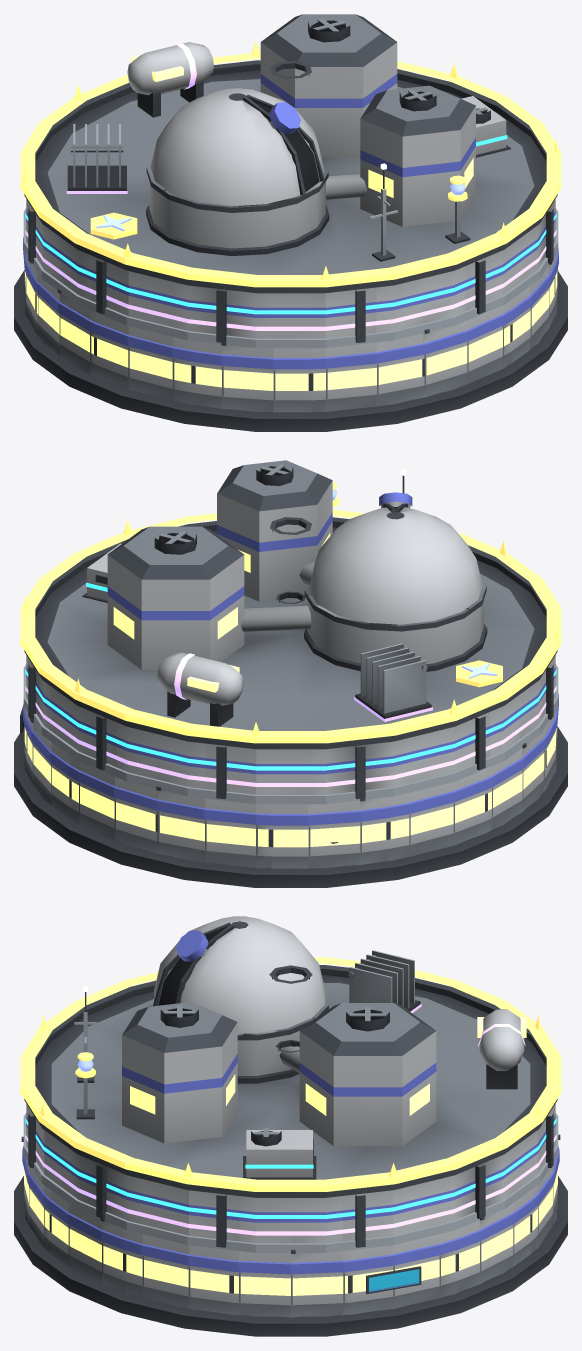
Rendered from research_lab.glb.
3 views of the same model, one above another, from view 1: azimuth 30°, elevation 25°; view 2: azimuth 150°, elevation 25°; view 3: azimuth 270°, elevation 25° (orthographic).
Visible parts, largest first — view 1: Roof, Base, L4, Wall_21, Wall_20, Wall_22, Wall_19, Wall_23, Wall_18, Wall_24, Wall_17, Wall_25 (+41 smaller); view 2: Roof, Base, L4, Wall_10, Wall_11, Wall_09, Wall_12, Wall_08, Wall_13, Wall_07, Wall_14, Wall_06 (+38 smaller); view 3: Roof, Base, L4, L3, Wall_00, Wall_31, Wall_30, Wall_29, Wall_01, Wall_28, Wall_03, Wall_02 (+38 smaller).
Boxes of the visible parts, box(x1,y1,x2,y2) form: Roof: box(24, 14, 557, 293); Base: box(14, 270, 567, 431); L4: box(66, 42, 213, 193); Wall_21: box(273, 348, 325, 412); Wall_20: box(221, 342, 273, 412); Wall_22: box(325, 342, 377, 411); Wall_19: box(172, 337, 221, 408); Wall_23: box(376, 333, 425, 406); Wall_18: box(127, 326, 172, 400); Wall_24: box(424, 321, 467, 397); Wall_17: box(89, 310, 128, 389); Wall_25: box(467, 305, 503, 384); Roof: box(24, 460, 557, 749); Base: box(14, 726, 567, 887); L4: box(157, 643, 432, 726); Wall_10: box(256, 804, 308, 868); Wall_11: box(308, 800, 360, 868); Wall_09: box(204, 798, 256, 867); Wall_12: box(360, 793, 409, 864); Wall_08: box(156, 786, 205, 862); Wall_13: box(409, 782, 454, 856); Wall_07: box(114, 777, 157, 853); Wall_14: box(453, 766, 492, 845); Wall_06: box(78, 762, 114, 840); Roof: box(24, 916, 557, 1197); Base: box(14, 1176, 567, 1336); L4: box(348, 950, 526, 1089); L3: box(243, 1040, 316, 1179); Wall_00: box(291, 1249, 343, 1317); Wall_31: box(238, 1251, 290, 1317); Wall_30: box(188, 1245, 238, 1315); Wall_29: box(141, 1234, 188, 1308); Wall_01: box(343, 1245, 393, 1315); Wall_28: box(100, 1218, 142, 1298); Wall_03: box(439, 1220, 480, 1298); Wall_02: box(393, 1234, 440, 1308).
Bounding box in the file's own units: 9.72 × 5.03 × 9.72.
